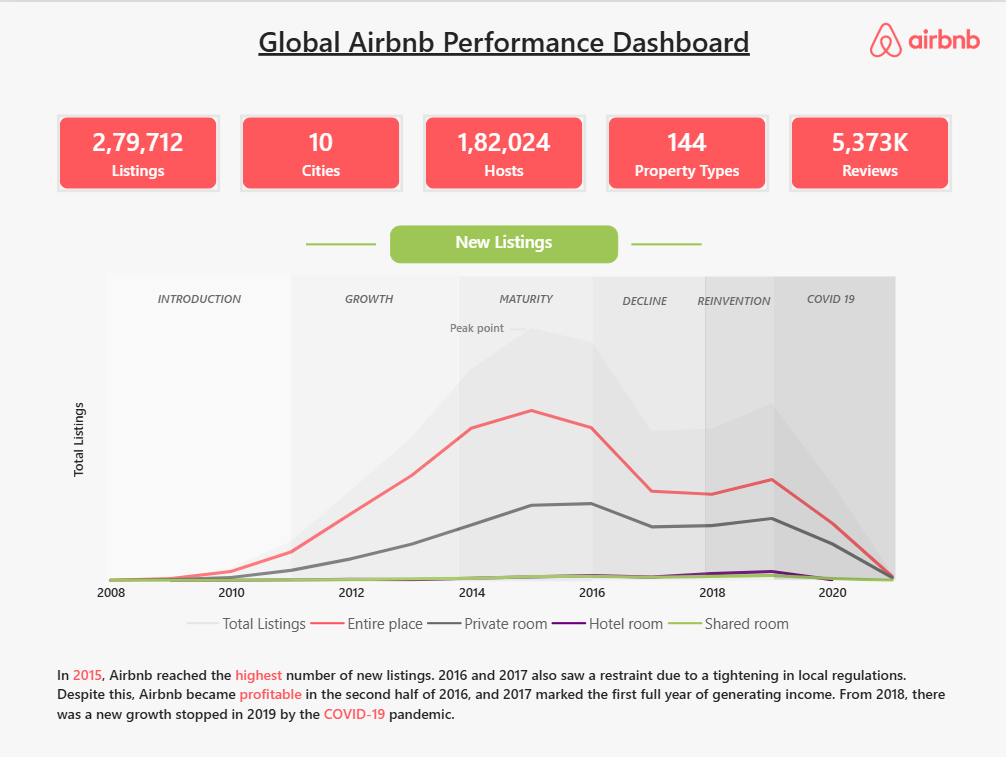

What the dashboard file says about the page in this screenshot:
{"tool":"powerbi","page":{"name":"Overview","canvas":[960,720],"ordinal":0},"visuals":[{"type":"textbox","box":[227,18.4,506,49.6],"z":0},{"type":"image","box":[828.6,19,104.8,34.9],"z":1000},{"type":"cardVisual","fields":{"Data":["CountNonNull(Listings.listing_id)"]},"box":[54.4,107.5,155,74],"z":2000},{"type":"cardVisual","fields":{"Data":["Count(Listings.city)"]},"box":[228.6,107.5,155,74],"z":3000},{"type":"cardVisual","fields":{"Data":["Count(Listings.property_type)"]},"box":[577,107.5,155,74],"z":4000},{"type":"cardVisual","fields":{"Data":["Count(Listings.host_id)"]},"box":[402.8,107.5,155,74],"z":5000},{"type":"cardVisual","fields":{"Data":["Count(Reviews.review_id)"]},"box":[751.3,107.5,155,74],"z":6000},{"type":"lineChart","fields":{"Category":["Listings.host_since.Variation.Date Hierarchy.Year"],"Y":["CountNonNull(Listings.listing_id)","Listings.Entire place","Listings.Private room","Listings.Hotel room","Listings.Shared room"]},"box":[54,260.2,825.4,361.9],"z":7000},{"type":"textbox","box":[371.3,212.9,217,36],"z":8000},{"type":"shape","box":[291.9,193.8,66.7,73],"z":9000},{"type":"shape","box":[601.4,193.8,66.7,73],"z":10000},{"type":"shape","box":[101.6,258.6,176.2,290.5],"z":11000},{"type":"textbox","box":[127,271.3,125.4,23.8],"z":12000},{"type":"shape","box":[277.8,260.2,158.7,290.5],"z":13000},{"type":"textbox","box":[328.6,272,60.3,23.8],"z":14000},{"type":"shape","box":[436.5,261.1,127,290.5],"z":15000},{"type":"textbox","box":[455.6,272,90.5,23.8],"z":16000},{"type":"shape","box":[563.7,261.6,108,287.9],"z":17000},{"type":"textbox","box":[593.4,272.4,44.6,29.7],"z":18000},{"type":"shape","box":[671.4,261.7,65.7,284.3],"z":19000},{"type":"textbox","box":[663.7,272.4,71.6,24.3],"z":20000},{"type":"shape","box":[737.1,261.7,115.7,288.6],"z":21000},{"type":"textbox","box":[769.1,271,47.3,24.3],"z":22000},{"type":"shape","box":[485,267.3,15,89.2],"z":23000},{"type":"textbox","box":[428.3,299.1,56.7,20.8],"z":24000},{"type":"textbox","box":[54.3,630,852.9,71.4],"z":25000}]}

Visuals, with their boxes in screenshot pixels (x1, y1, x2, y2), scaled from the page's 960x720 canvas onto the 1006x757 screenshot:
textbox: [238,19,768,71]
image: [868,20,978,57]
cardVisual - CountNonNull(Listings.listing_id): [57,113,219,191]
cardVisual - Count(Listings.city): [240,113,402,191]
cardVisual - Count(Listings.property_type): [605,113,767,191]
cardVisual - Count(Listings.host_id): [422,113,585,191]
cardVisual - Count(Reviews.review_id): [787,113,950,191]
lineChart - Listings.host_since.Variation.Date Hierarchy.Year x CountNonNull(Listings.listing_id): [57,274,922,654]
textbox: [389,224,616,262]
shape: [306,204,376,281]
shape: [630,204,700,281]
shape: [106,272,291,577]
textbox: [133,285,264,310]
shape: [291,274,457,579]
textbox: [344,286,408,311]
shape: [457,275,591,580]
textbox: [477,286,572,311]
shape: [591,275,704,578]
textbox: [622,286,669,318]
shape: [704,275,772,574]
textbox: [696,286,771,312]
shape: [772,275,894,579]
textbox: [806,285,856,310]
shape: [508,281,524,375]
textbox: [449,314,508,336]
textbox: [57,662,951,737]
